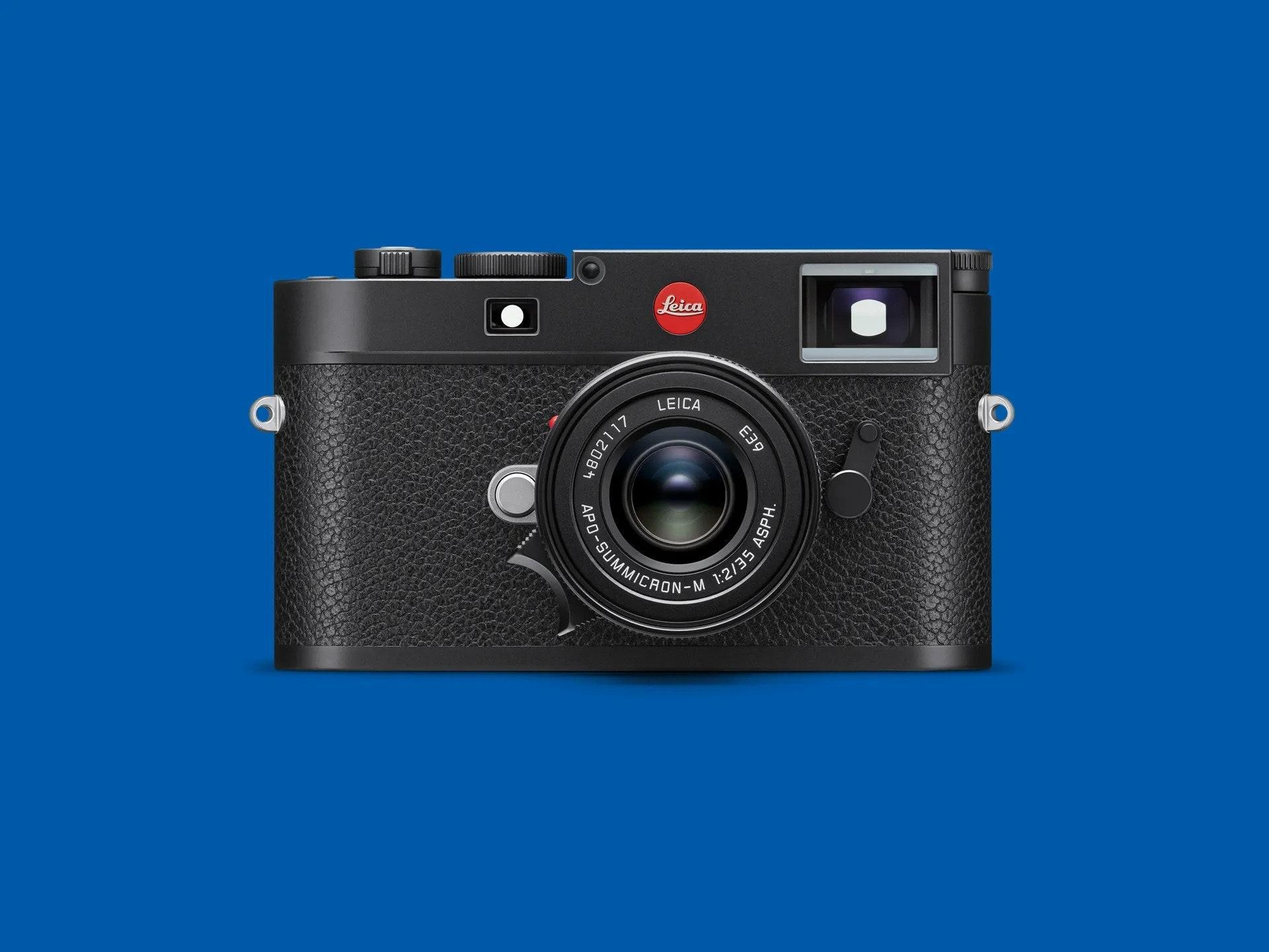degital-camera: (247, 230, 1021, 691)
